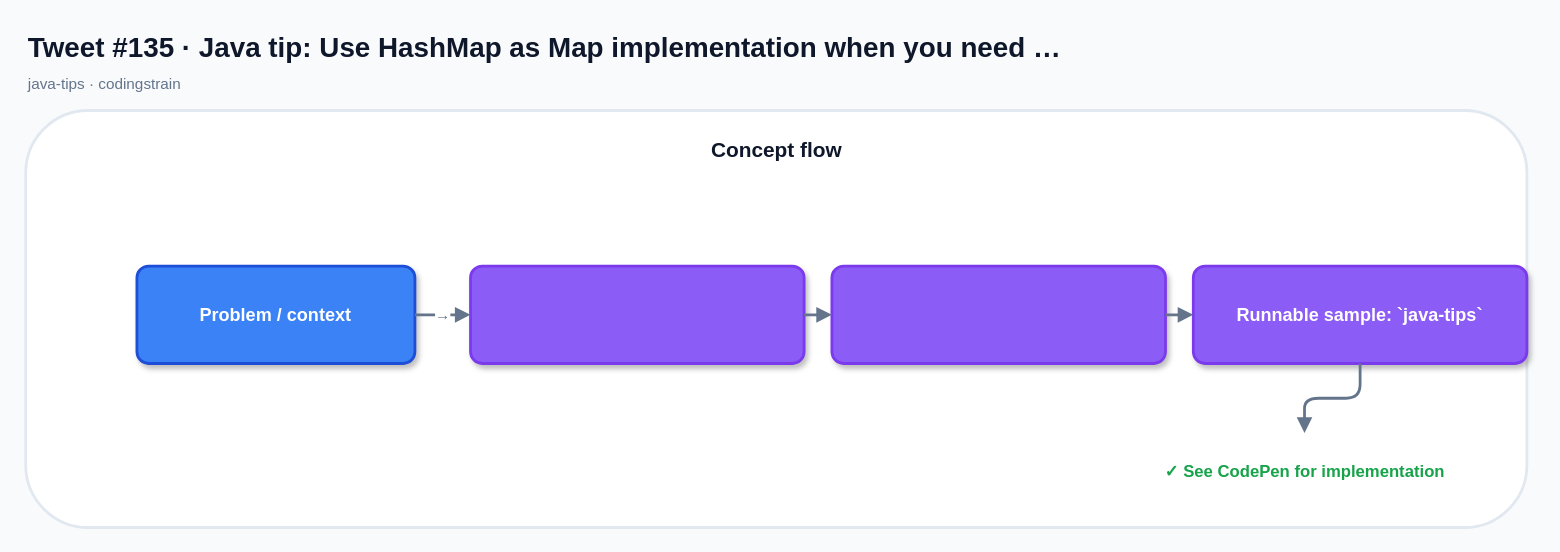
This 1560x552 diagram has some shape labels left out. Here are the shapes that lost their labels. From the top down, the centre of each, then its label:
At [638,316]: "💡Java tip: Use HashMap as Map implementation when you need greatest ge".
At [999,316]: "#Java #DataStructures".
